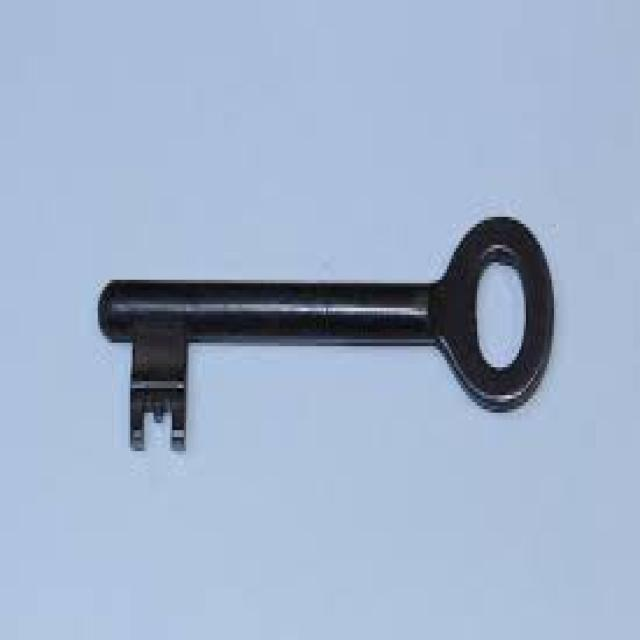key: (67, 188, 596, 490)
